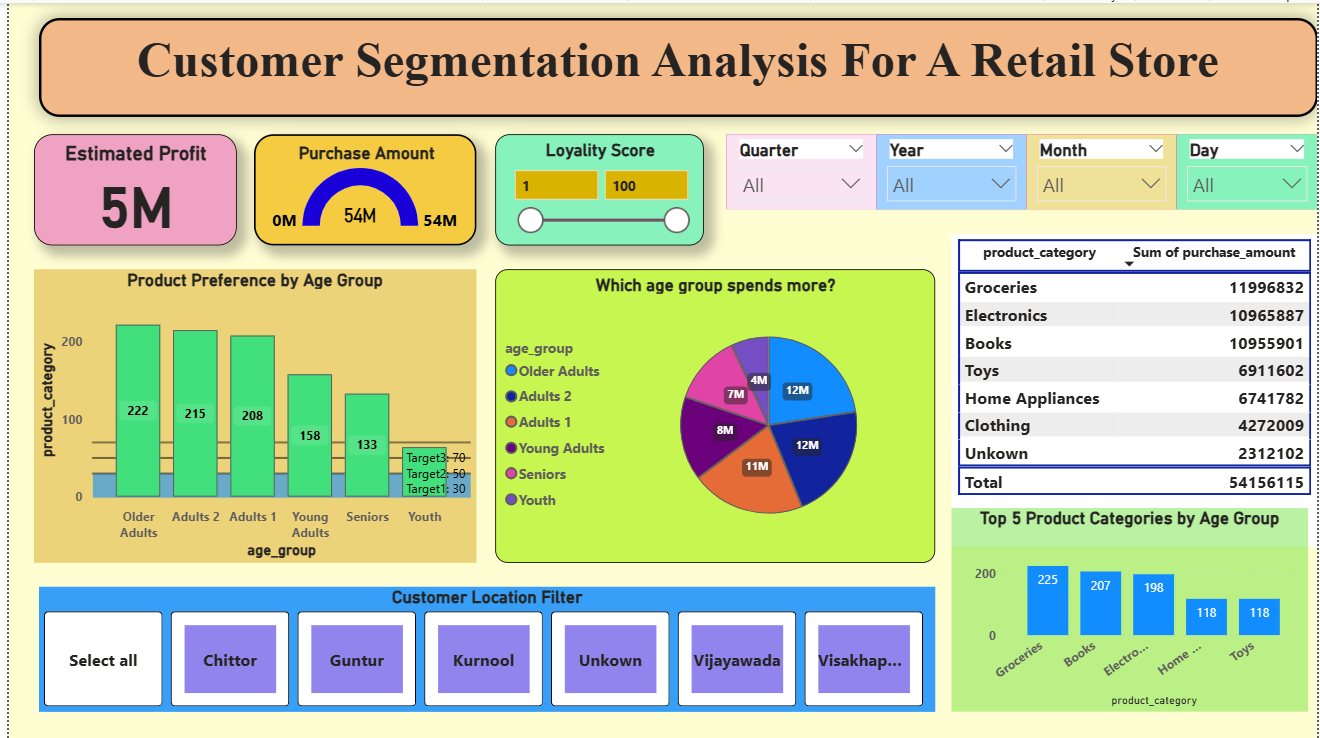

The dashboard page shown, as its layout file describes it:
{"tool":"powerbi","page":{"name":"Dashboard","canvas":[1280,720],"ordinal":0},"visuals":[{"type":"textbox","box":[29.3,14.7,1251,96.6],"z":0},{"type":"card","title":"Estimated Profit","fields":{"Values":["Sum(CustomerSegmentationData.estimated_profit)"]},"box":[24.5,128.4,198.1,108.8],"z":1000},{"type":"group","id":"g1","title":"Group 1","box":[701.9,128.4,578.4,73.4],"z":2000},{"type":"slicer","fields":{"Values":["CustomerSegmentationData.purchase_date.Variation.Date Hierarchy.Quarter"]},"box":[701.9,128.4,146.7,73.4],"z":3000,"group":"g1"},{"type":"slicer","title":"Loyality Score","fields":{"Values":["CustomerSegmentationData.loyality_score"]},"box":[475.7,128.4,204.2,108.8],"z":3000},{"type":"slicer","fields":{"Values":["CustomerSegmentationData.purchase_date.Variation.Date Hierarchy.Day"]},"box":[1142.1,128.4,138.2,73.4],"z":4000,"group":"g1"},{"type":"pieChart","title":"Which age group spends more?","fields":{"Category":["CustomerSegmentationData.age_group"],"Y":["Sum(CustomerSegmentationData.purchase_amount)"]},"box":[476.2,260,430,287.5],"z":4000},{"type":"slicer","fields":{"Values":["CustomerSegmentationData.purchase_date.Variation.Date Hierarchy.Month"]},"box":[995.4,128.4,146.7,73.4],"z":5000,"group":"g1"},{"type":"columnChart","title":"Product Preference by Age Group","fields":{"Category":["CustomerSegmentationData.age_group"],"Y":["CountNonNull(CustomerSegmentationData.product_category)"]},"box":[25,260,432.5,287.5],"z":5000},{"type":"slicer","fields":{"Values":["CustomerSegmentationData.purchase_date.Variation.Date Hierarchy.Year"]},"box":[848.6,128.4,146.7,73.4],"z":6000,"group":"g1"},{"type":"advancedSlicerVisual","title":"Customer Location Filter","fields":{"Values":["CustomerSegmentationData.customer_location"]},"box":[29.3,571.1,876.8,122.3],"z":6000},{"type":"gauge","title":"Purchase Amount","fields":{"Y":["Sum(CustomerSegmentationData.purchase_amount)"],"MaxValue":["CustomerSegmentationData.MaxValue"],"MinValue":["CustomerSegmentationData.MinValue"]},"box":[240,128.8,217.5,108.8],"z":7000},{"type":"tableEx","fields":{"Values":["CustomerSegmentationData.product_category","Sum(CustomerSegmentationData.purchase_amount)"]},"box":[922,226.2,358.3,305.7],"z":8000},{"type":"clusteredColumnChart","title":"Top 5 Product Categories by Purchase Amount","fields":{"Category":["CustomerSegmentationData.product_category"],"Y":["Sum(CustomerSegmentationData.purchase_amount)"]},"box":[922,496.5,348.5,196.9],"z":9000}]}

Visuals, with their boxes in screenshot pixels (x1, y1, x2, y2), scaled from the page's 1280x720 canvas onto the 1320x738 screenshot:
textbox: {"x1": 30, "y1": 15, "x2": 1319, "y2": 114}
"Estimated Profit" card: {"x1": 25, "y1": 132, "x2": 230, "y2": 243}
"Group 1" group: {"x1": 724, "y1": 132, "x2": 1319, "y2": 207}
slicer - CustomerSegmentationData.purchase_date.Variation.Date Hierarchy.Quarter: {"x1": 724, "y1": 132, "x2": 875, "y2": 207}
"Loyality Score" slicer: {"x1": 491, "y1": 132, "x2": 701, "y2": 243}
slicer - CustomerSegmentationData.purchase_date.Variation.Date Hierarchy.Day: {"x1": 1178, "y1": 132, "x2": 1319, "y2": 207}
"Which age group spends more?" pieChart: {"x1": 491, "y1": 266, "x2": 935, "y2": 561}
slicer - CustomerSegmentationData.purchase_date.Variation.Date Hierarchy.Month: {"x1": 1027, "y1": 132, "x2": 1178, "y2": 207}
"Product Preference by Age Group" columnChart: {"x1": 26, "y1": 266, "x2": 472, "y2": 561}
slicer - CustomerSegmentationData.purchase_date.Variation.Date Hierarchy.Year: {"x1": 875, "y1": 132, "x2": 1026, "y2": 207}
"Customer Location Filter" advancedSlicerVisual: {"x1": 30, "y1": 585, "x2": 934, "y2": 711}
"Purchase Amount" gauge: {"x1": 248, "y1": 132, "x2": 472, "y2": 244}
tableEx - CustomerSegmentationData.product_category x Sum(CustomerSegmentationData.purchase_amount): {"x1": 951, "y1": 232, "x2": 1319, "y2": 545}
"Top 5 Product Categories by Purchase Amount" clusteredColumnChart: {"x1": 951, "y1": 509, "x2": 1310, "y2": 711}
